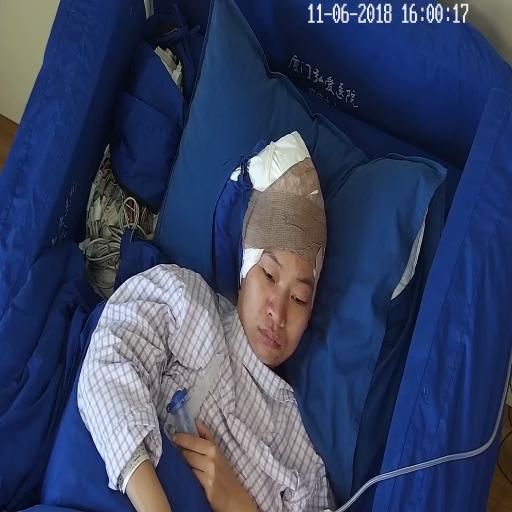Seizure: (224, 131, 328, 363)
